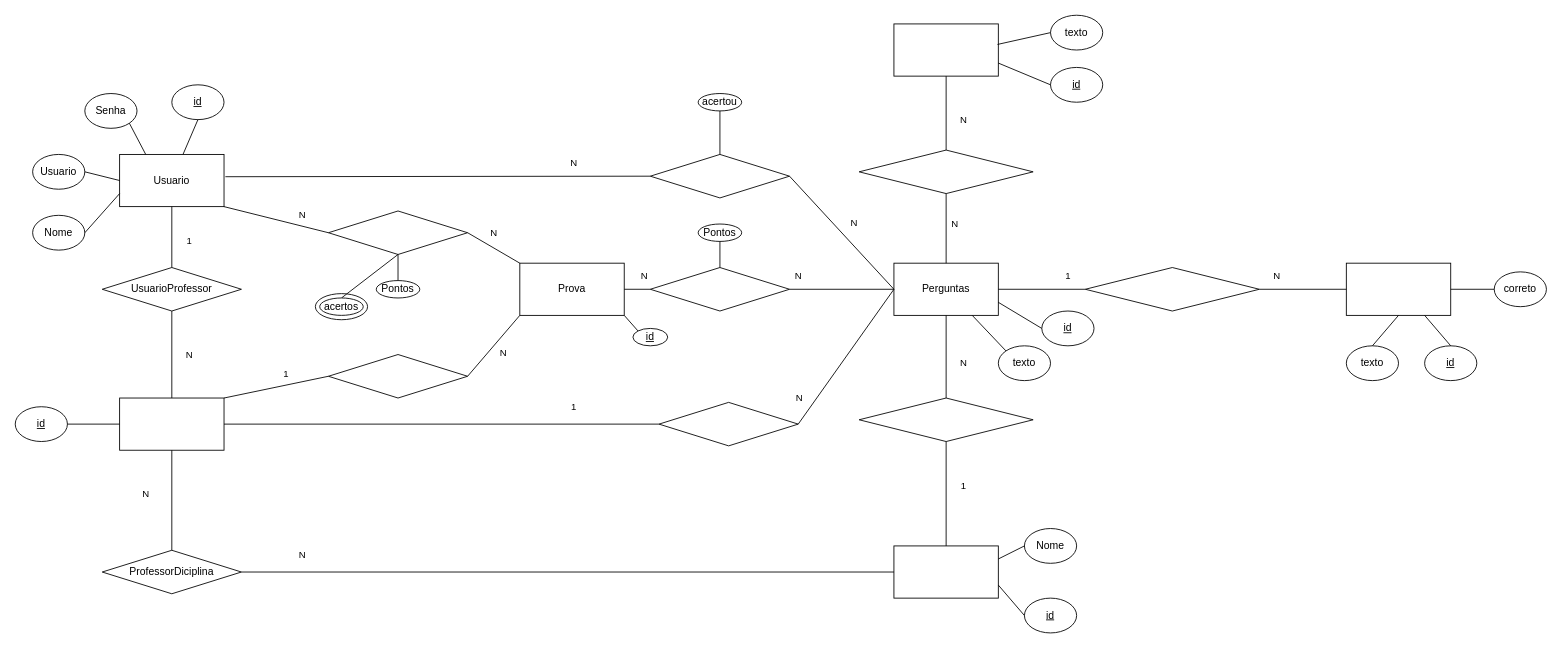
The diagram is 1562 pixels wide and 648 high, and some of its shapes have lost their labels. Each missing label, with the centre of its shape:
"Alternativas" belongs at (x=1398, y=288).
"Assunto" belongs at (x=945, y=49).
"Diciplina" belongs at (x=945, y=571).
"PerguntaNaprova" belongs at (x=719, y=289).
"PerguntasAlternativas" belongs at (x=1171, y=289).
"PerguntasAssunto" belongs at (x=945, y=171).
"PerguntasCriadas" belongs at (x=728, y=424).
"PerguntasDiciplina" belongs at (x=945, y=419).
"Professor" belongs at (x=171, y=423).
"ProfessorCriaProva" belongs at (x=398, y=376).
"UsuarioFazProva" belongs at (x=398, y=232).
"UsuarioResponde" belongs at (x=719, y=176).
